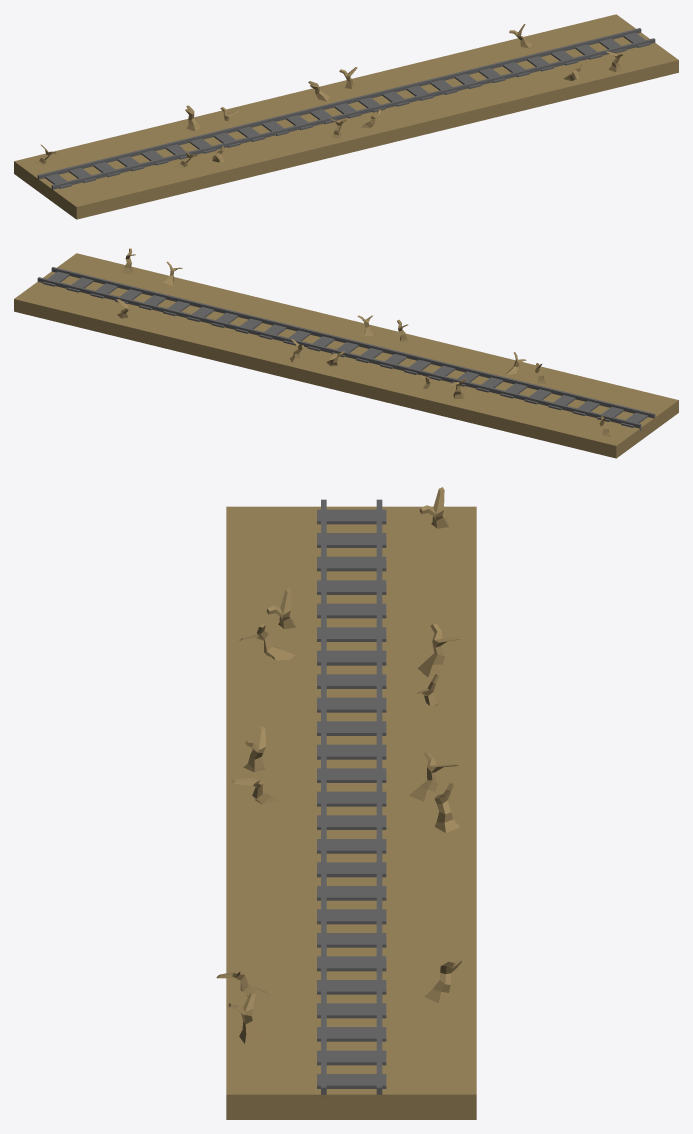
The model's file is terrain2.glb.
3 renders of one model, top to bottom at view 1: azimuth 30°, elevation 25°; view 2: azimuth 150°, elevation 25°; view 3: azimuth 270°, elevation 25°, orthographic. The views are drawn at different scales.
Parts seen in each view (by area): view 1: Ground2, Rail2; view 2: Ground2, Rail2; view 3: Ground2, Rail2.
Part boxes in pixels (x1,y1,x2,y2): Ground2: [14, 14, 678, 219]; Rail2: [37, 28, 655, 191]; Ground2: [14, 248, 678, 458]; Rail2: [37, 267, 655, 430]; Ground2: [216, 487, 476, 1119]; Rail2: [317, 499, 386, 1098].
Size of the model in its own units: 50 by 2.62 by 9.37.
